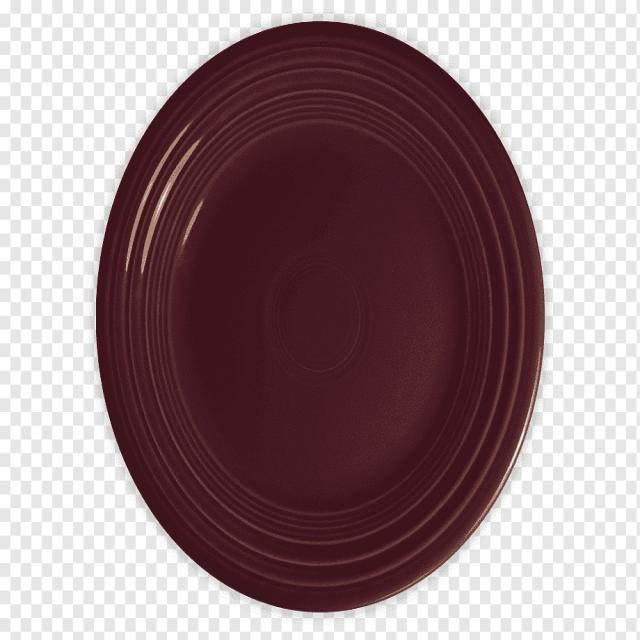Piring: (82, 9, 559, 630)
